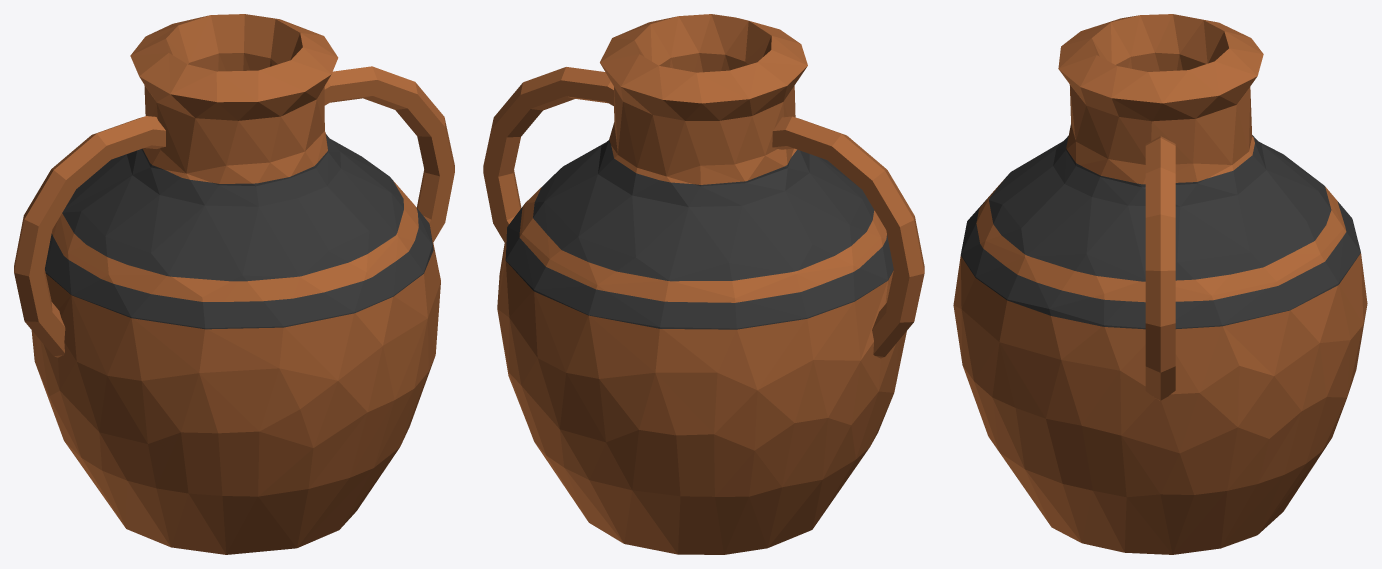
Rendered from Pottery 13_2.fbx.
3 views of the same model, side by side, from view 1: azimuth 30°, elevation 25°; view 2: azimuth 150°, elevation 25°; view 3: azimuth 270°, elevation 25° (orthographic).
Visible parts, largest first — view 1: Pottery 13_2; view 2: Pottery 13_2; view 3: Pottery 13_2.
Part boxes in pixels (x1,y1,x2,y2): Pottery 13_2: (14,14,454,554); Pottery 13_2: (483,14,924,554); Pottery 13_2: (953,14,1367,554).
Bounding box in the file's own units: 65.52 × 65.3 × 53.29.
